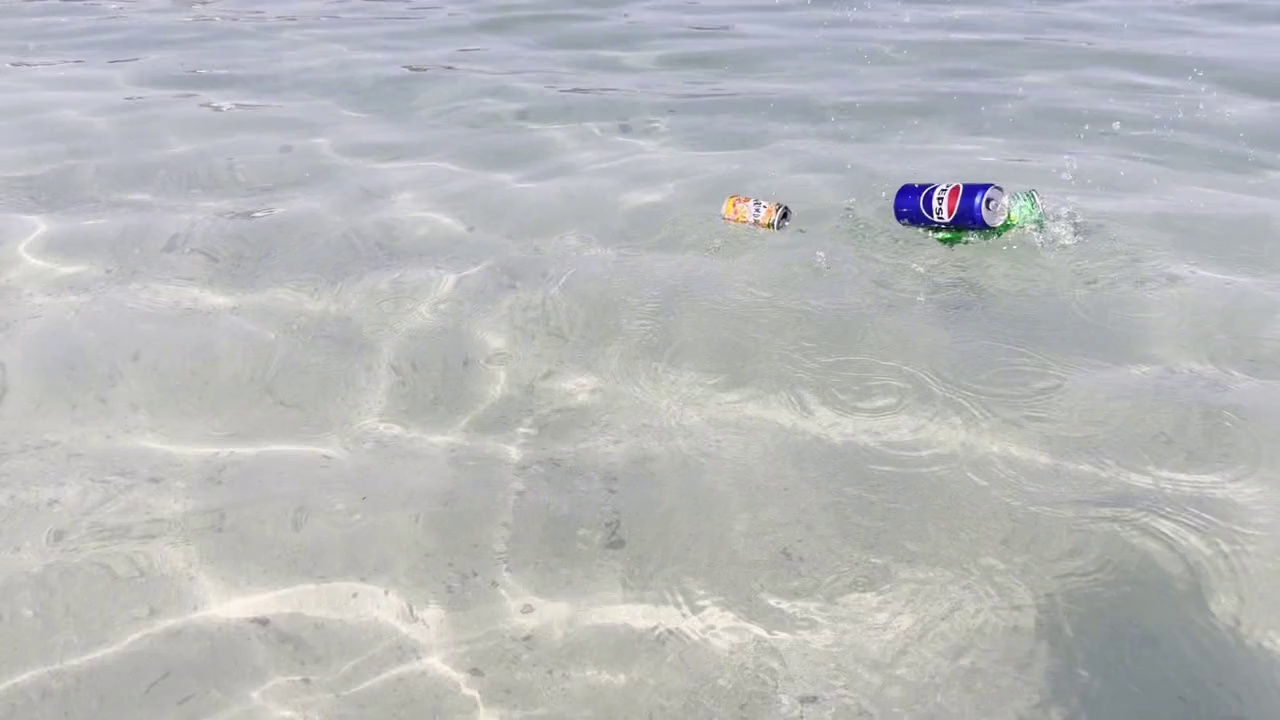debris: (933, 177, 1052, 254), (886, 173, 1015, 235), (712, 184, 796, 231)
